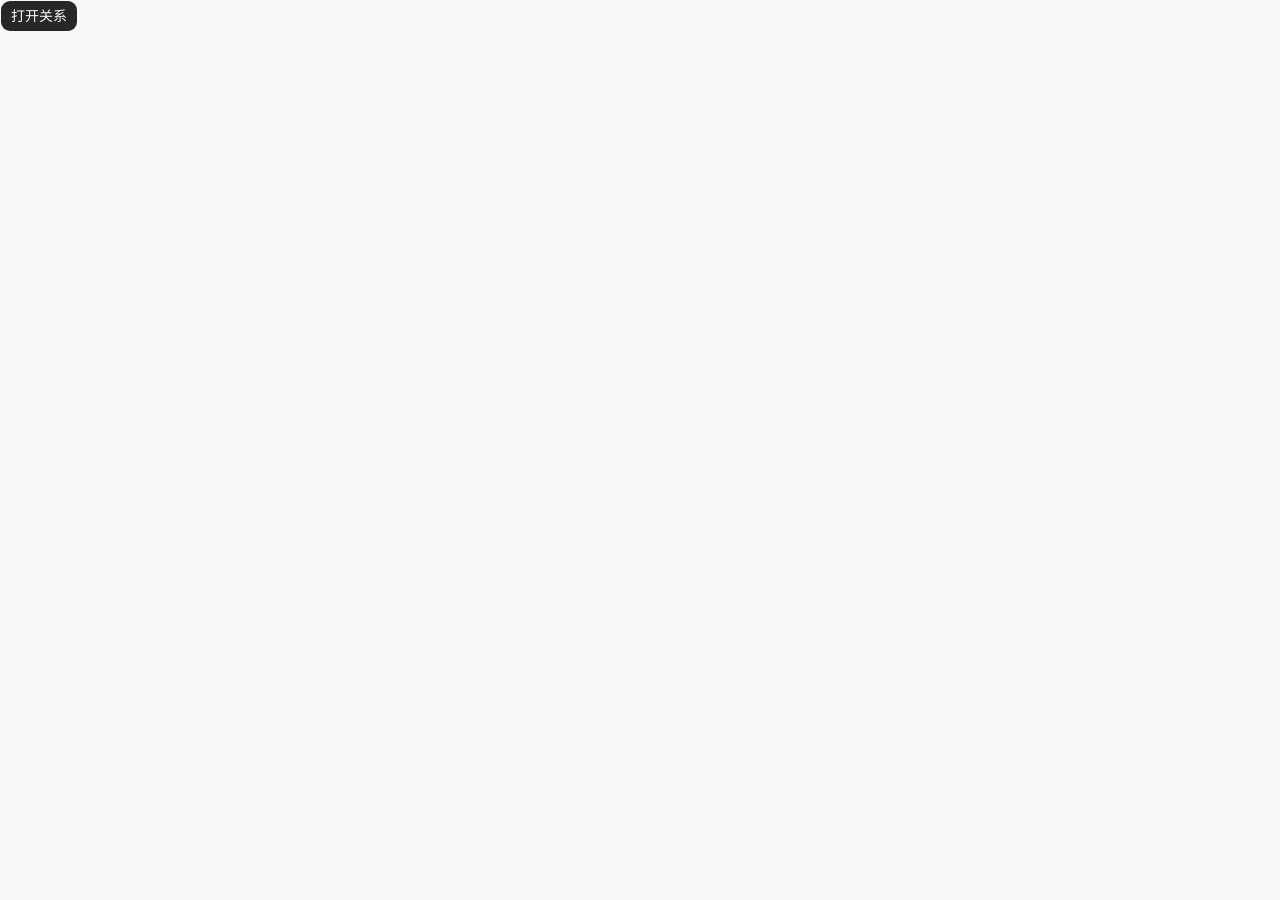
Test: relation tabs support keyboard navigation and the dialog closes with Escape
This screenshot has width=1280, height=900.
Click the button "打开关系" at (39, 16), box [0,0,78,32]
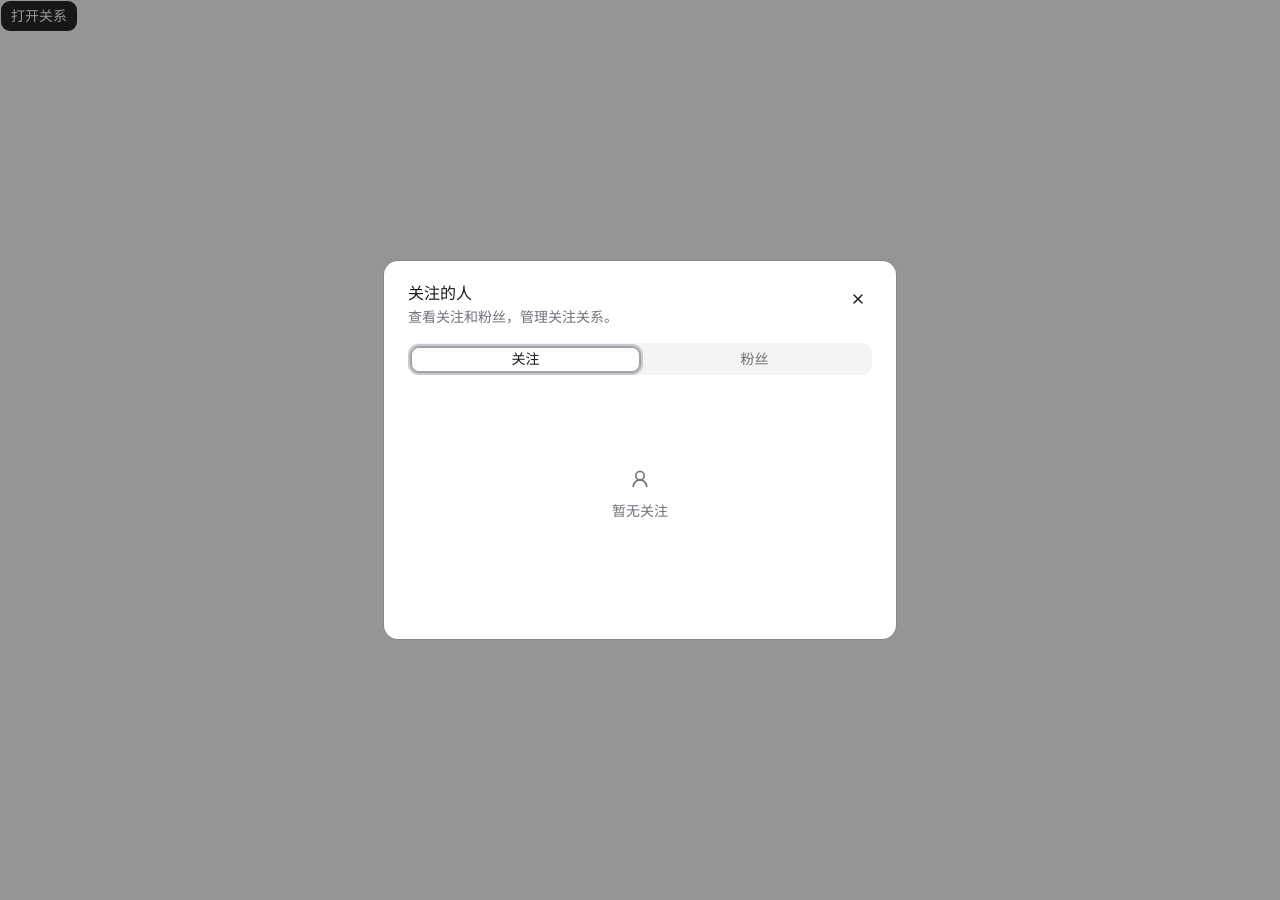
expect the dialog "关注的人" is shown: met, box [384,261,896,639]
Press Arrowright
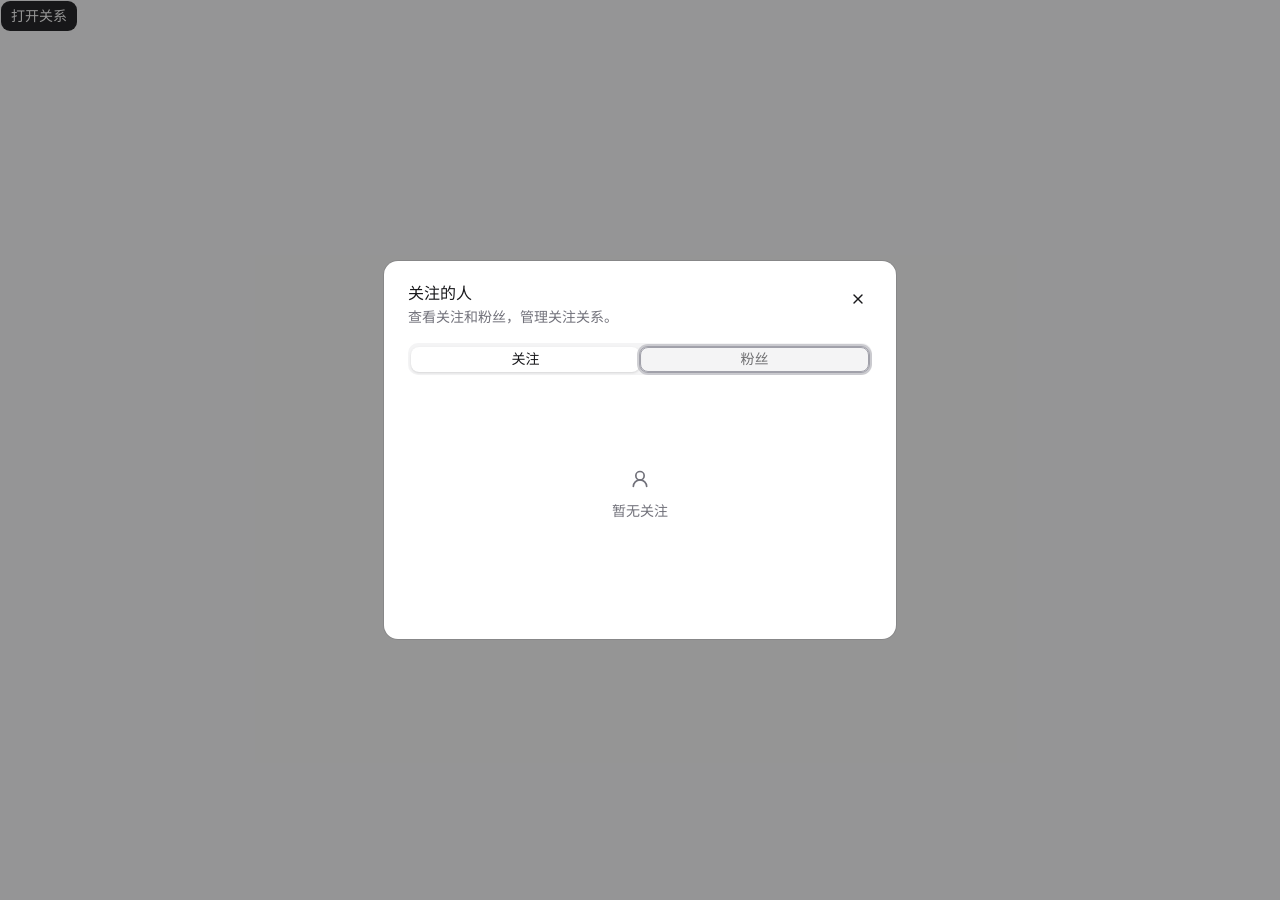
Press Enter
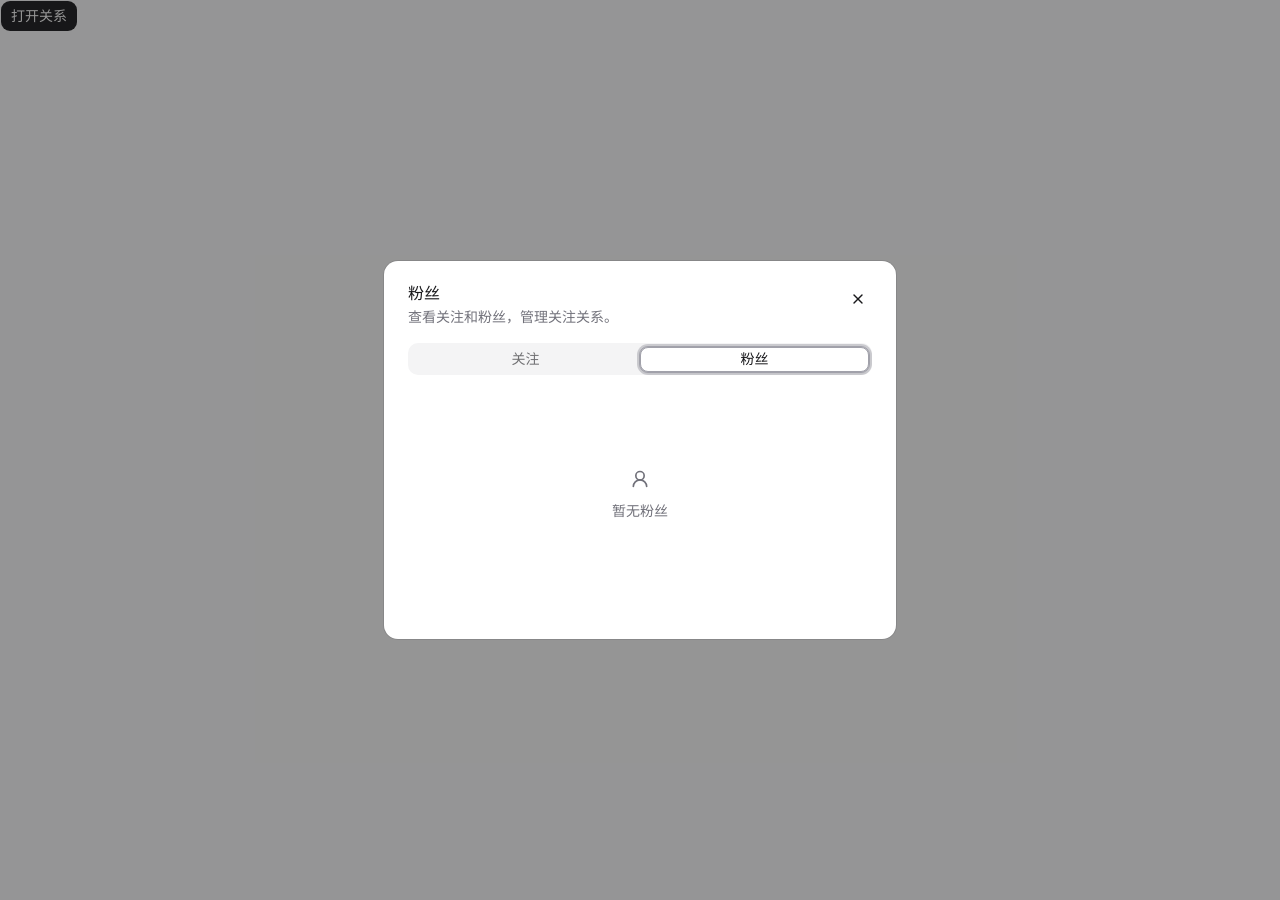
expect the tab "粉丝" is selected: met, box [640,346,869,372]
Press Escape
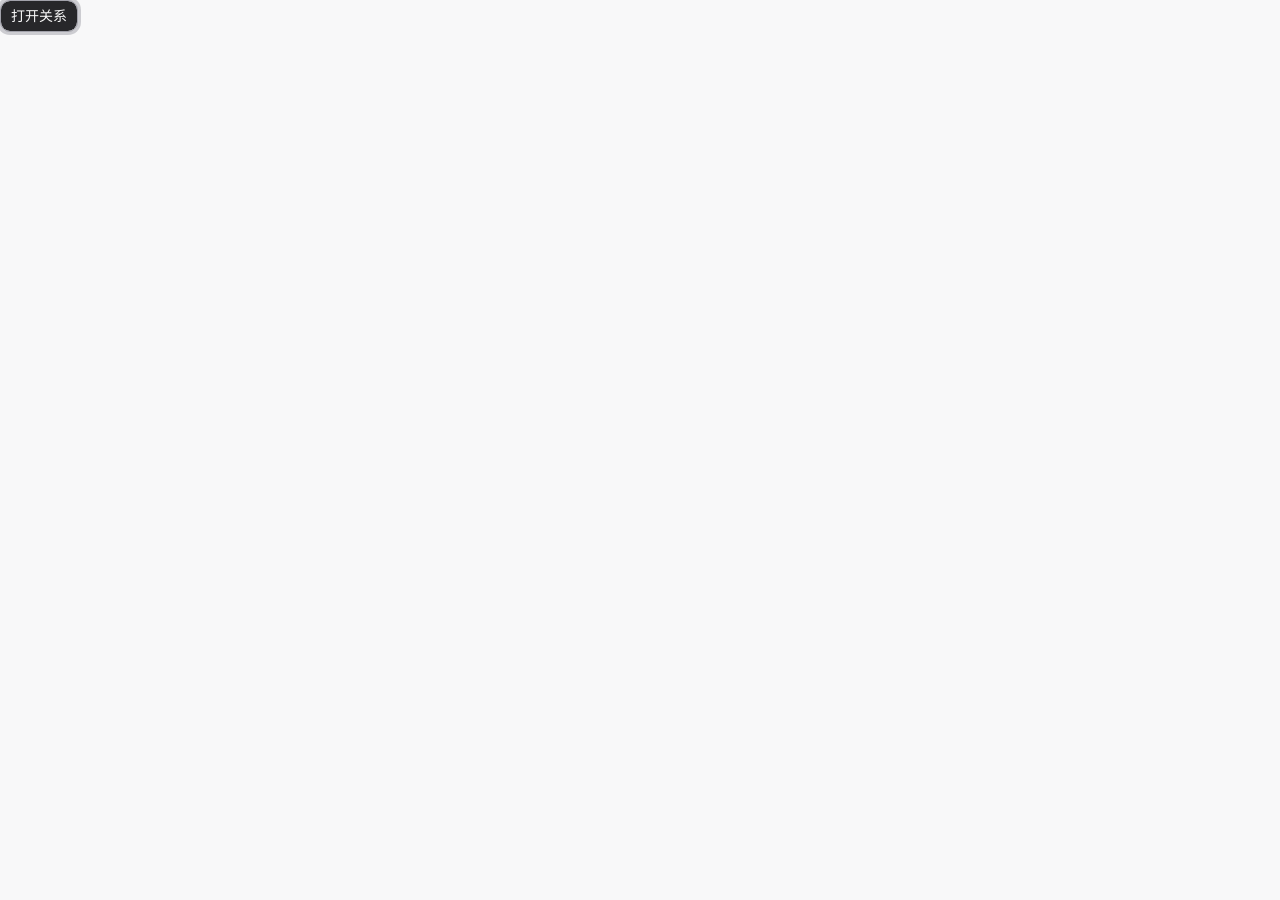
expect the dialog is gone: met
